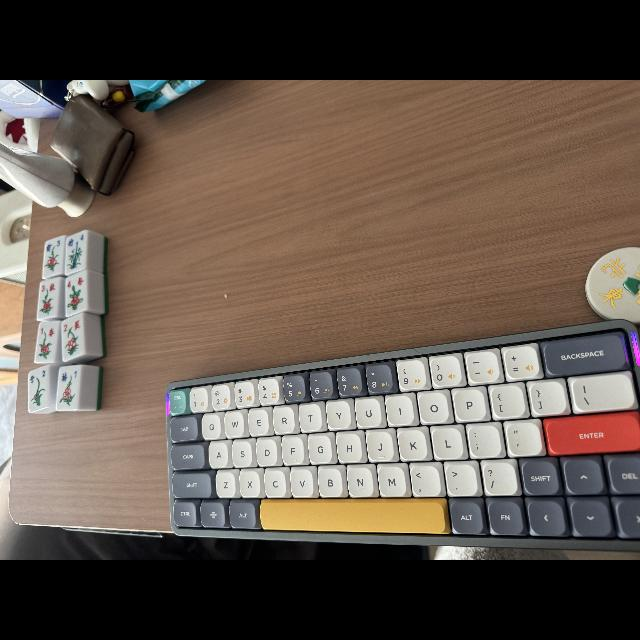f1: (56, 367, 80, 383)
f2: (27, 369, 49, 383)
f3: (43, 238, 63, 252)
f4: (66, 235, 86, 248)
s1: (34, 322, 60, 338)
s2: (62, 318, 84, 334)
s3: (39, 280, 60, 292)
s4: (66, 276, 86, 288)
